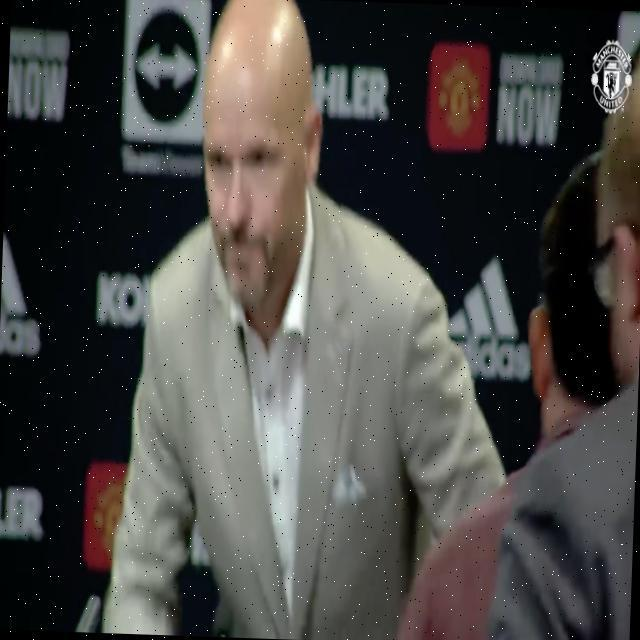TeamViewer: (121, 0, 209, 176)
